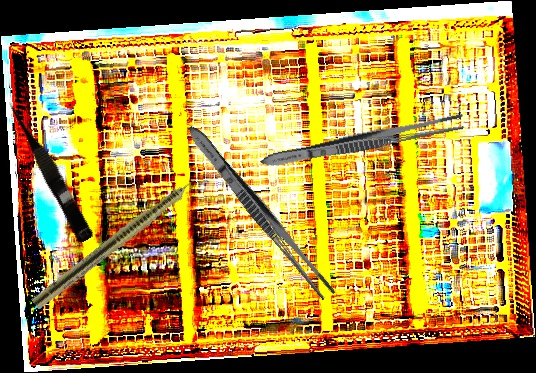Dressing Forceps: (180, 120, 341, 305), (258, 109, 468, 174)
Handpiece: (30, 160, 218, 313)
Micro Scissor: (2, 96, 98, 244)
